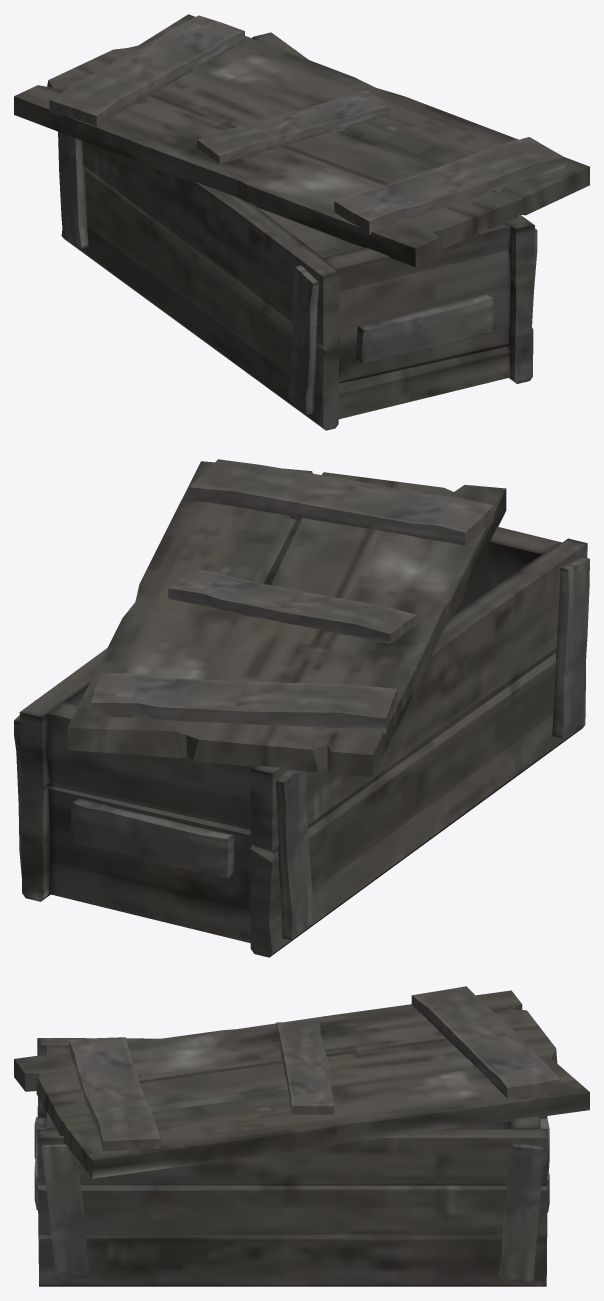
Rendered from crate_open.glb.
3 renders of one model, top to bottom at view 1: azimuth 30°, elevation 25°; view 2: azimuth 150°, elevation 25°; view 3: azimuth 270°, elevation 25°, orthographic. The views are drawn at different scales.
Visible parts, largest first — view 1: medieval_crate_og001_Standardmaterial_0, lid_wide_og_Standardmaterial_0; view 2: medieval_crate_og001_Standardmaterial_0, lid_wide_og_Standardmaterial_0; view 3: medieval_crate_og001_Standardmaterial_0, lid_wide_og_Standardmaterial_0.
Boxes of the visible parts, x1,y1,x2,y2 form: medieval_crate_og001_Standardmaterial_0: (58, 32, 537, 430); lid_wide_og_Standardmaterial_0: (14, 14, 589, 267); medieval_crate_og001_Standardmaterial_0: (14, 526, 589, 957); lid_wide_og_Standardmaterial_0: (67, 459, 506, 777); medieval_crate_og001_Standardmaterial_0: (34, 1038, 549, 1286); lid_wide_og_Standardmaterial_0: (14, 986, 589, 1178).
Bounding box in the file's own units: 37.28 × 18.35 × 53.3.
2 materials, 2 textured.
